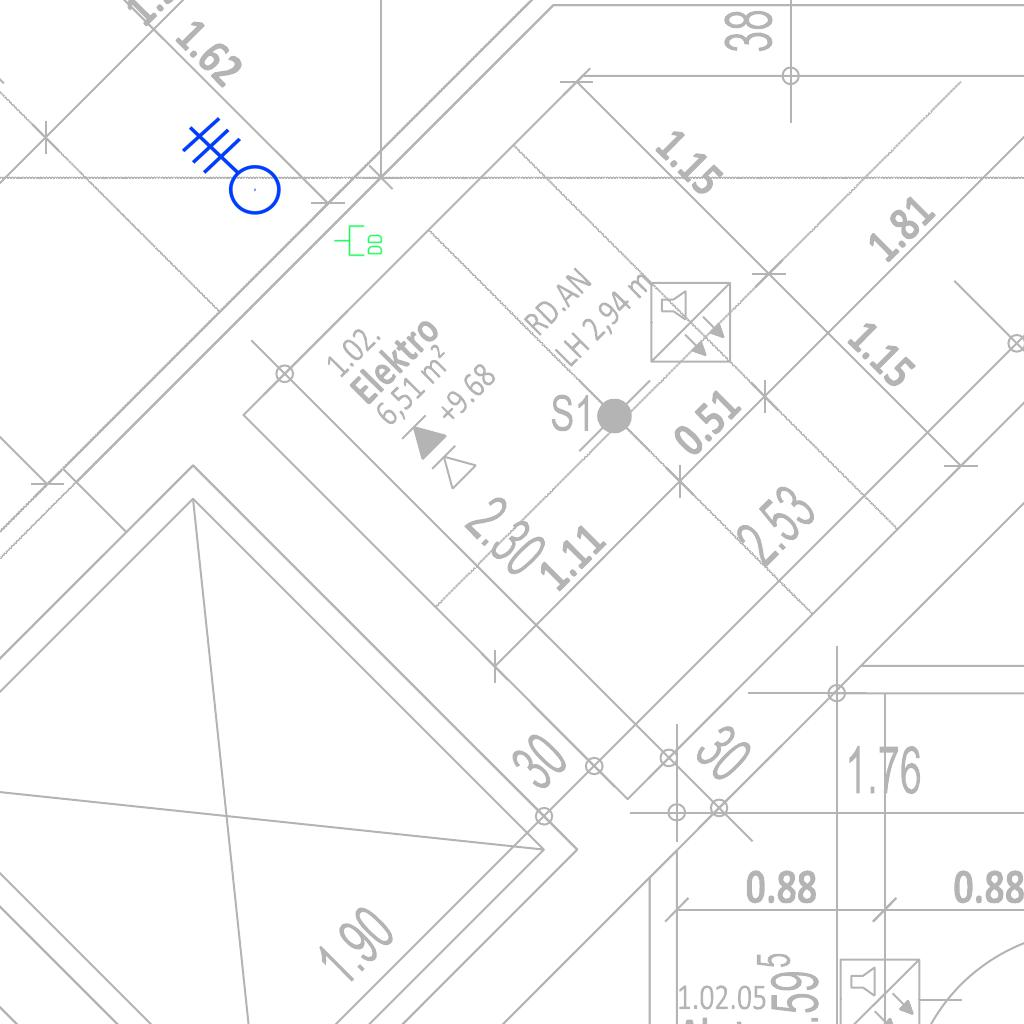Datenanschluss_zweifach: (333, 224, 384, 258)
Elektroanschluss_allgemein_400V_Geraeteanschlussdose_400V: (169, 116, 282, 232)
